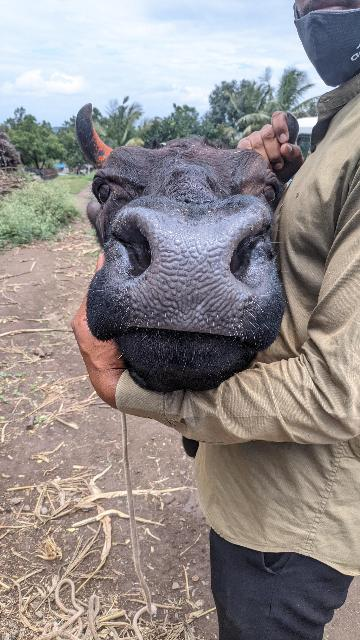Muzzle: (128, 206, 248, 342)
